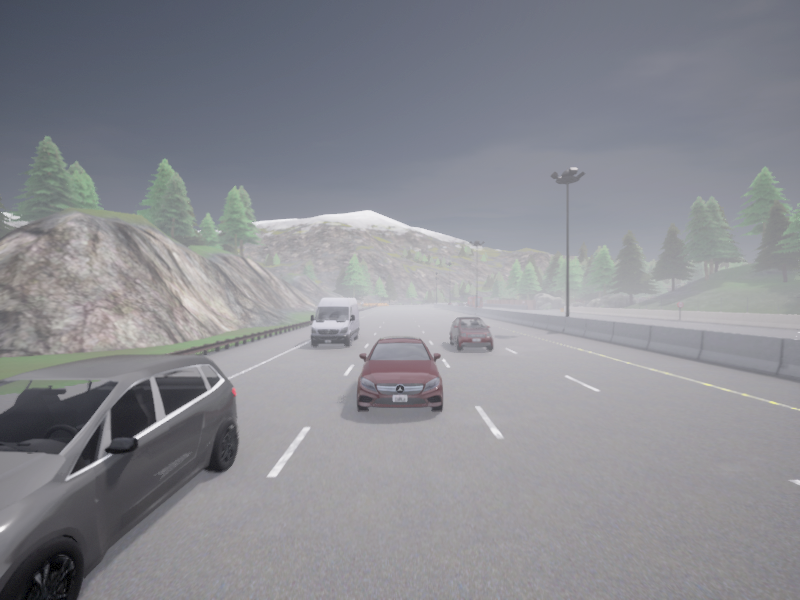vehicle: (0, 354, 237, 599), (357, 335, 442, 411), (310, 298, 359, 347), (449, 317, 493, 351), (466, 295, 482, 307), (455, 303, 463, 305), (448, 302, 452, 304), (485, 300, 486, 302)
